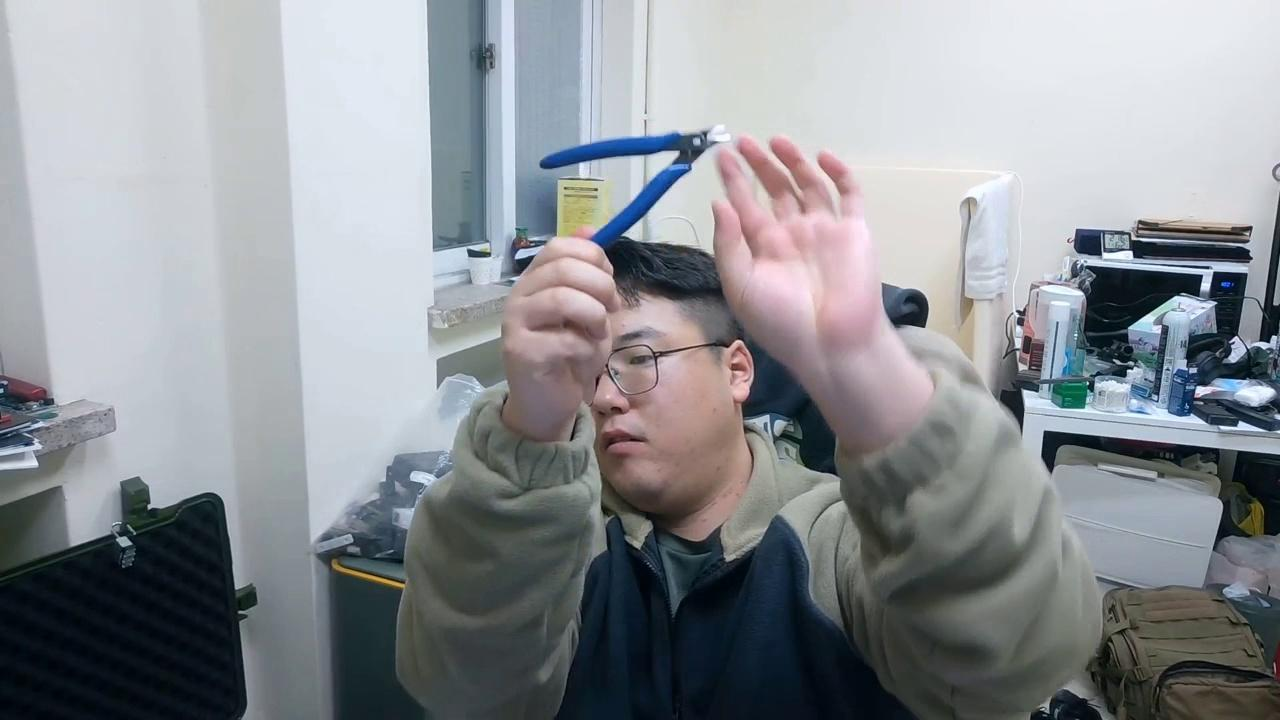blue_pliers: (537, 123, 733, 251)
